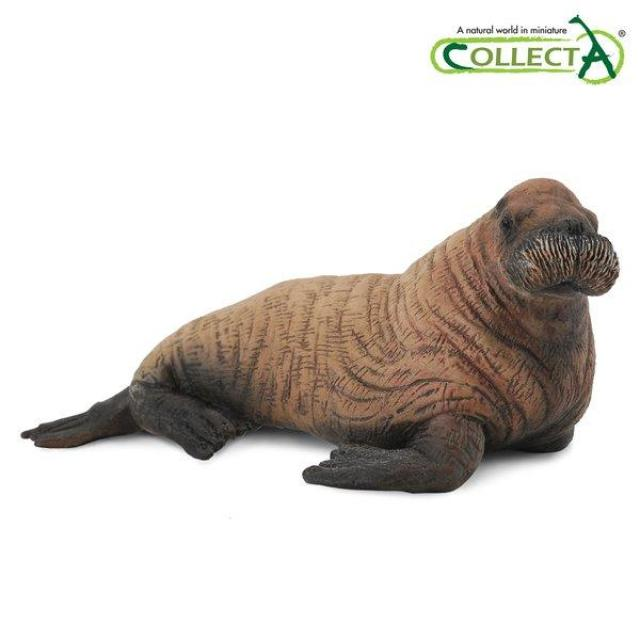walrus: (49, 149, 615, 497)
